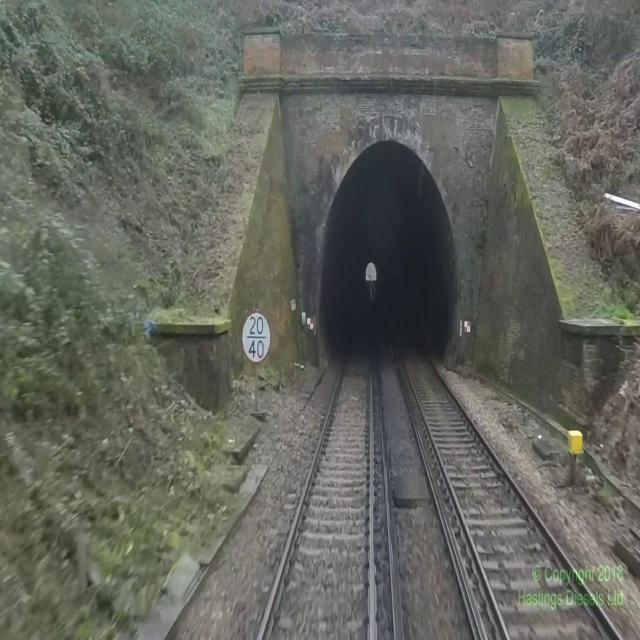rail-track: (396, 332, 616, 639), (262, 293, 369, 639)
